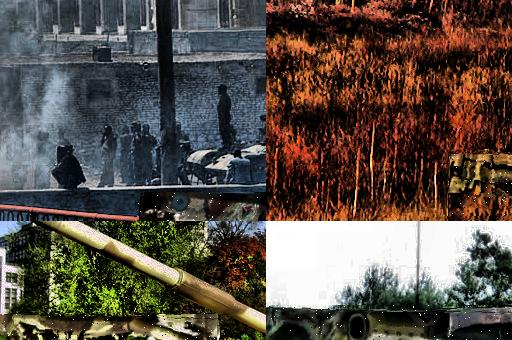tanks: (37, 222, 267, 334), (267, 308, 512, 340), (1, 314, 207, 340), (142, 194, 267, 222), (449, 153, 512, 199)
